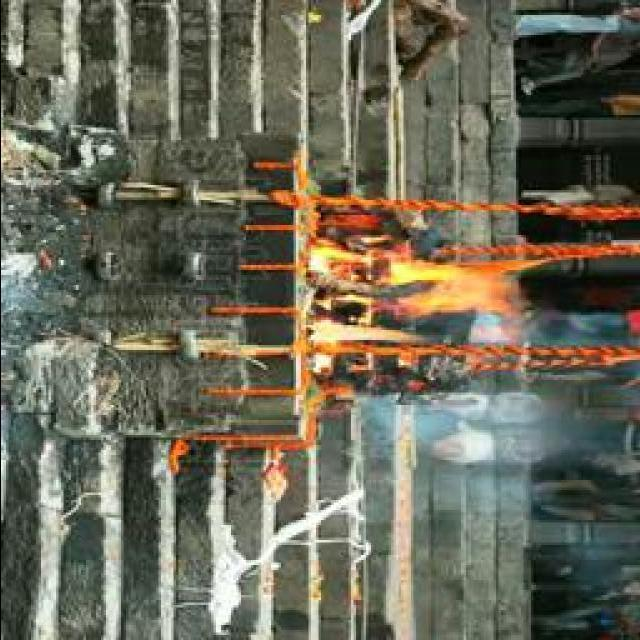Fire: (310, 246, 542, 382)
